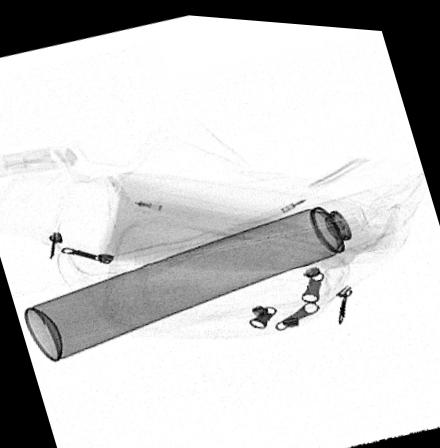Sprayer: (24, 184, 398, 361)
